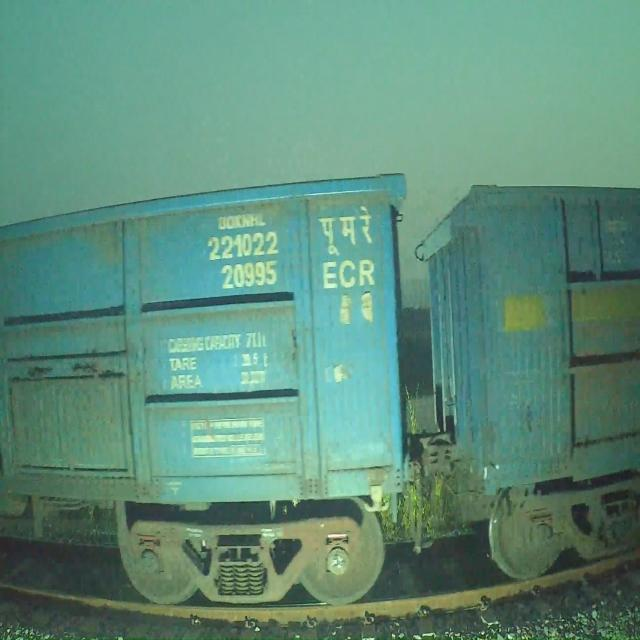WAgon-uic: (0, 170, 407, 608), (414, 182, 640, 582)
uic: (207, 230, 284, 294)
